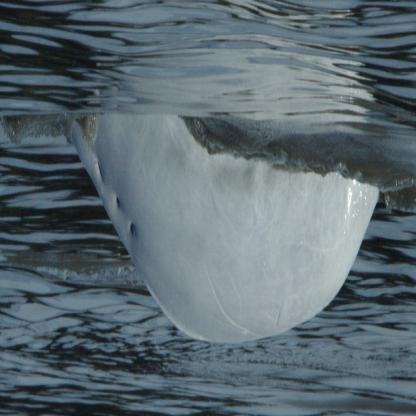dolphin-whale: (63, 119, 381, 348)
